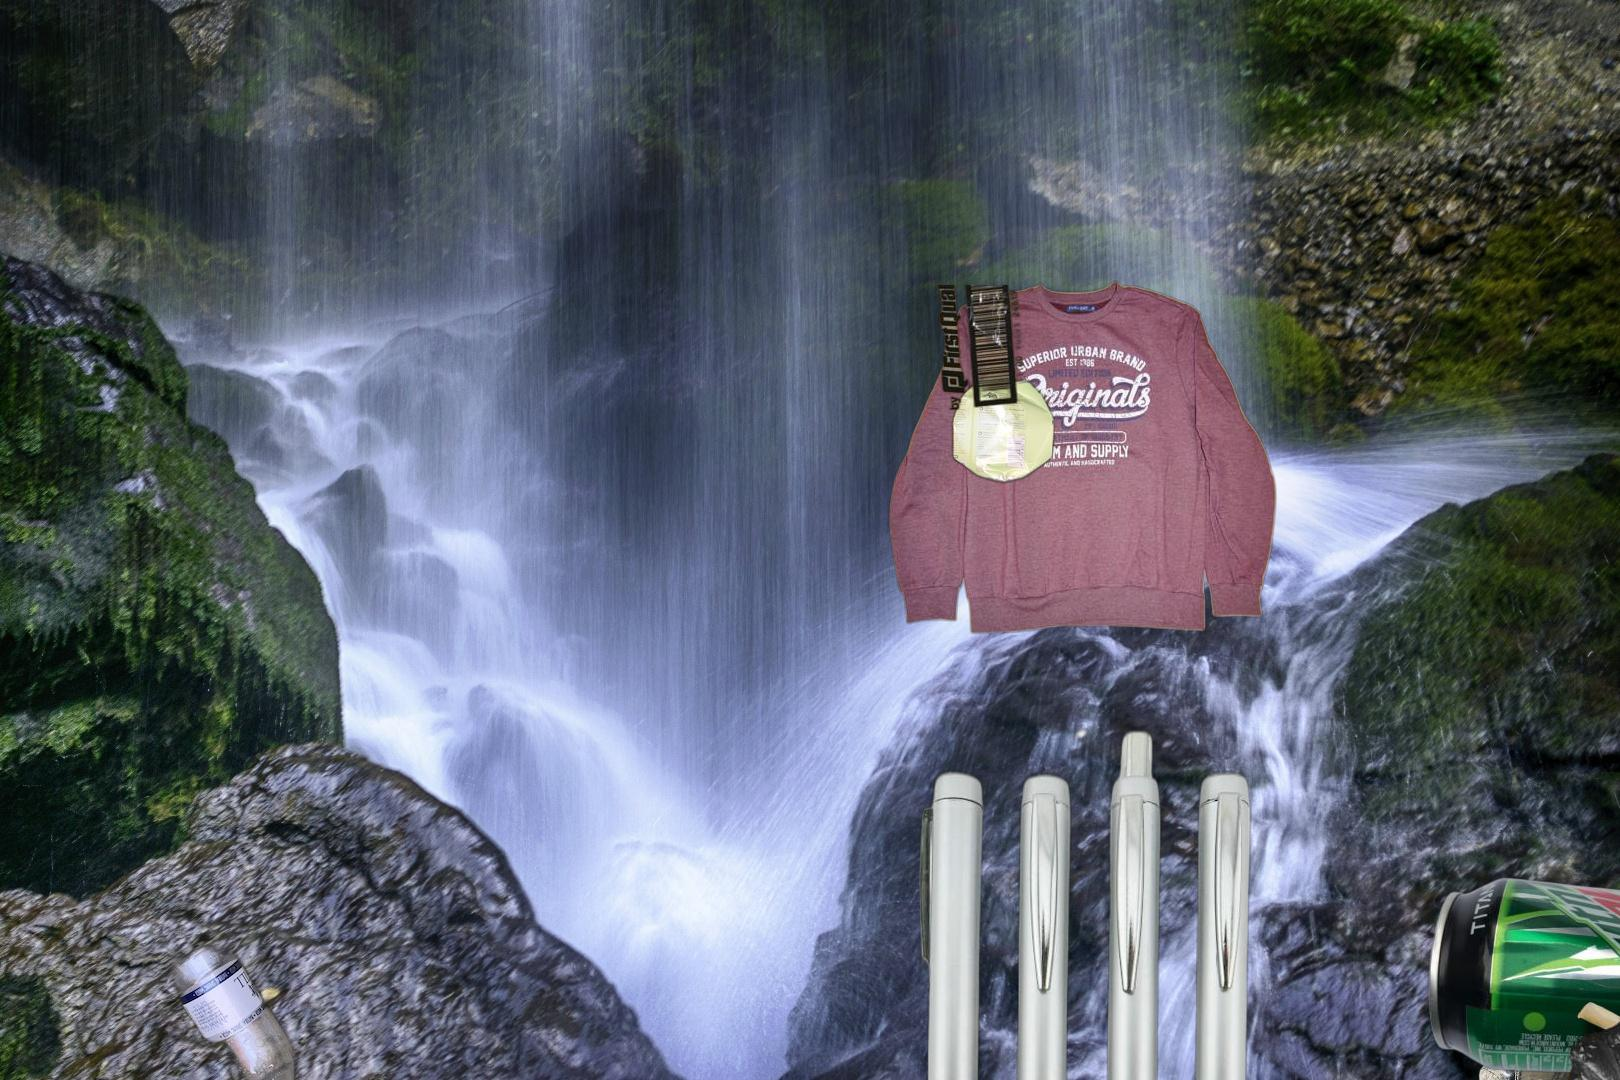clothes: (886, 277, 1279, 638)
metal-cans: (1424, 874, 1620, 1080), (947, 371, 1060, 489)
penholder: (853, 709, 1254, 1080)
plastic-bag: (1557, 999, 1620, 1080)
plastic-bottles: (71, 720, 498, 1080)
shoes: (1477, 961, 1620, 1080)
trashbox-cardboard: (538, 284, 1031, 669)
